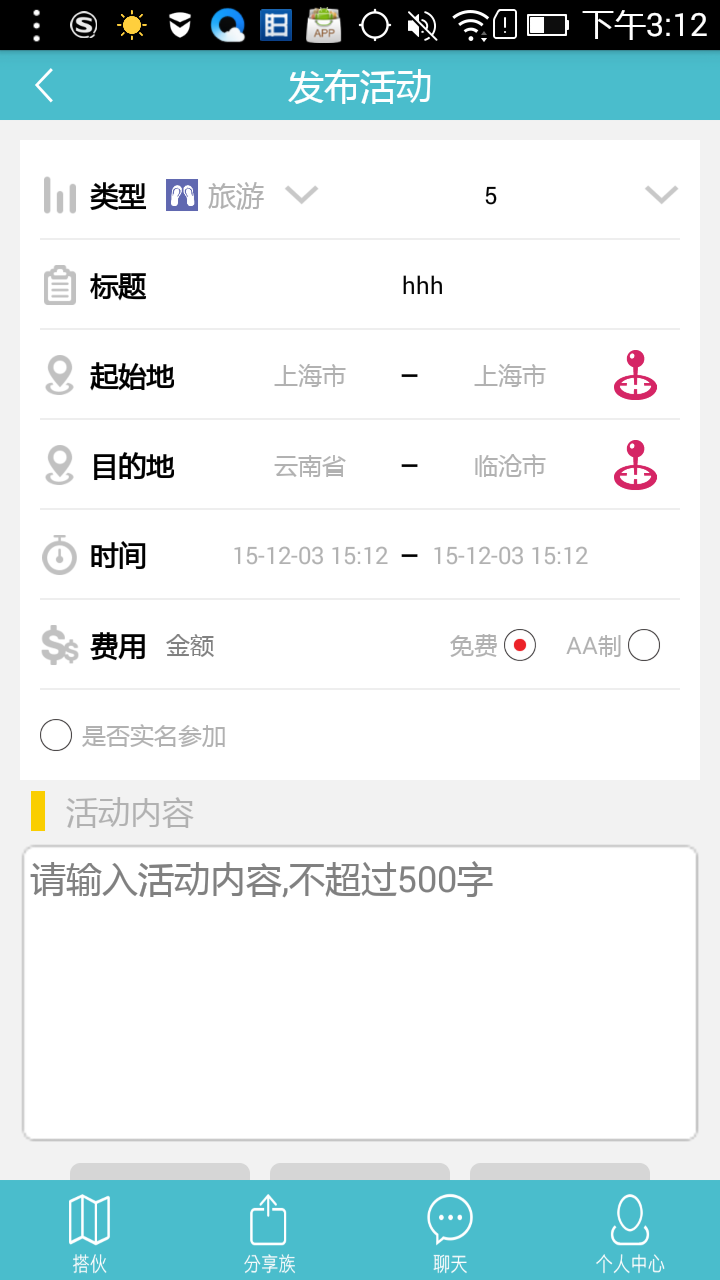checkboxs: (147, 155, 338, 220), (618, 167, 688, 219)
radiobutton: (418, 608, 707, 673), (35, 705, 249, 760)
textview: (15, 789, 704, 1148)
